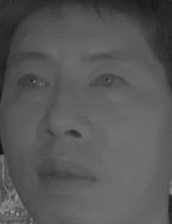eye: (86, 70, 128, 94), (13, 70, 51, 94)
mouth: (30, 152, 99, 195)
